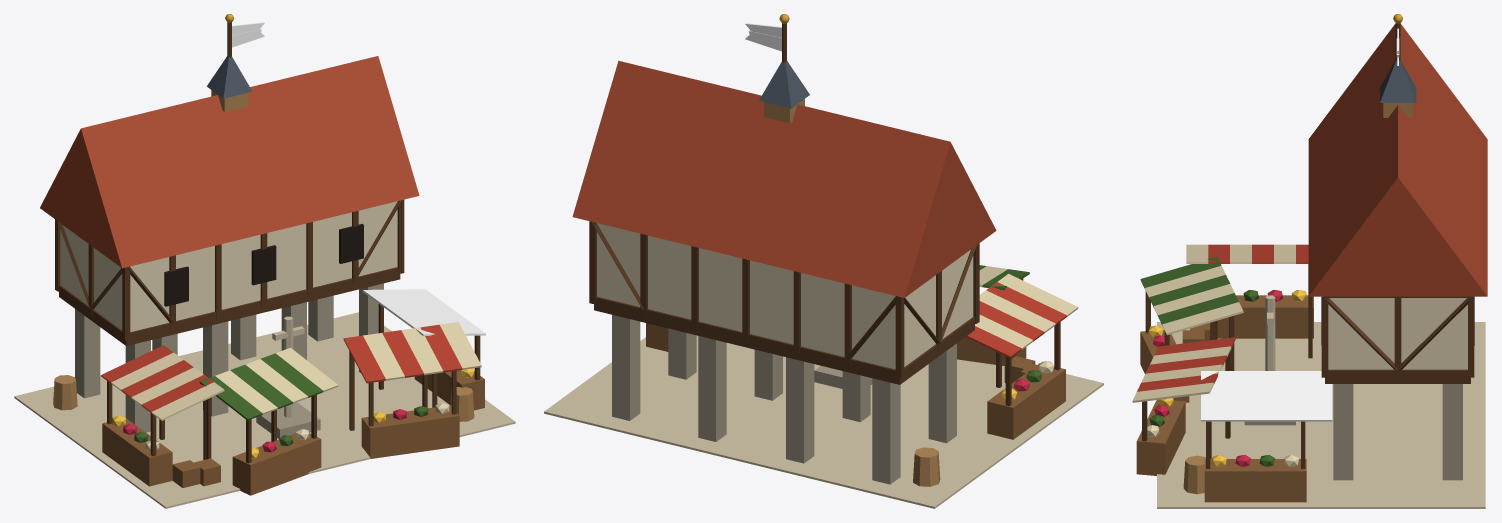
File: building_market_2.glb
3 views of the same model, side by side, from view 1: azimuth 30°, elevation 25°; view 2: azimuth 150°, elevation 25°; view 3: azimuth 270°, elevation 25° (orthographic). The views are drawn at different scales.
Parts seen in each view (by area): view 1: building_market_2; view 2: building_market_2; view 3: building_market_2.
Boxes of the visible parts, x1,y1,x2,y2 form: building_market_2: [14, 14, 515, 508]; building_market_2: [544, 14, 1103, 508]; building_market_2: [1132, 14, 1487, 508].
Bounding box in the file's own units: 12 × 12.16 × 9.73.
